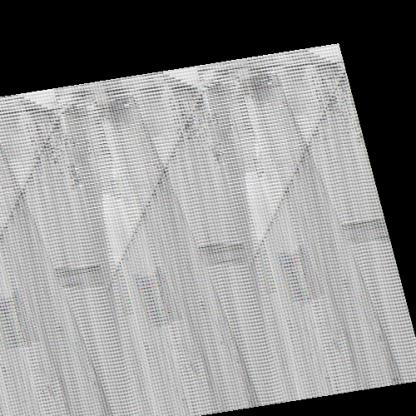Damage: (74, 70, 285, 119)
